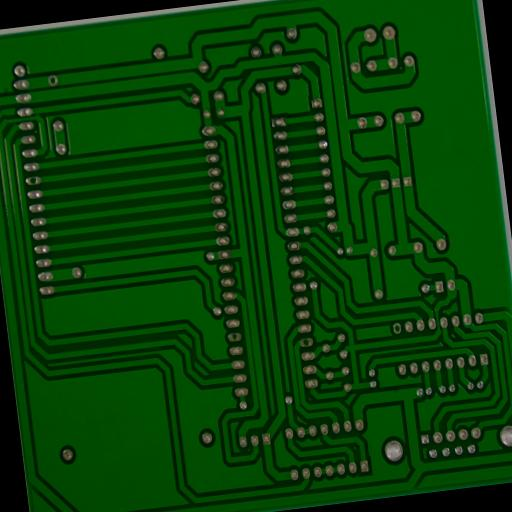missing_hole: (48, 74, 58, 86), (28, 176, 38, 186), (393, 323, 402, 334), (230, 332, 239, 342), (302, 338, 310, 348)
